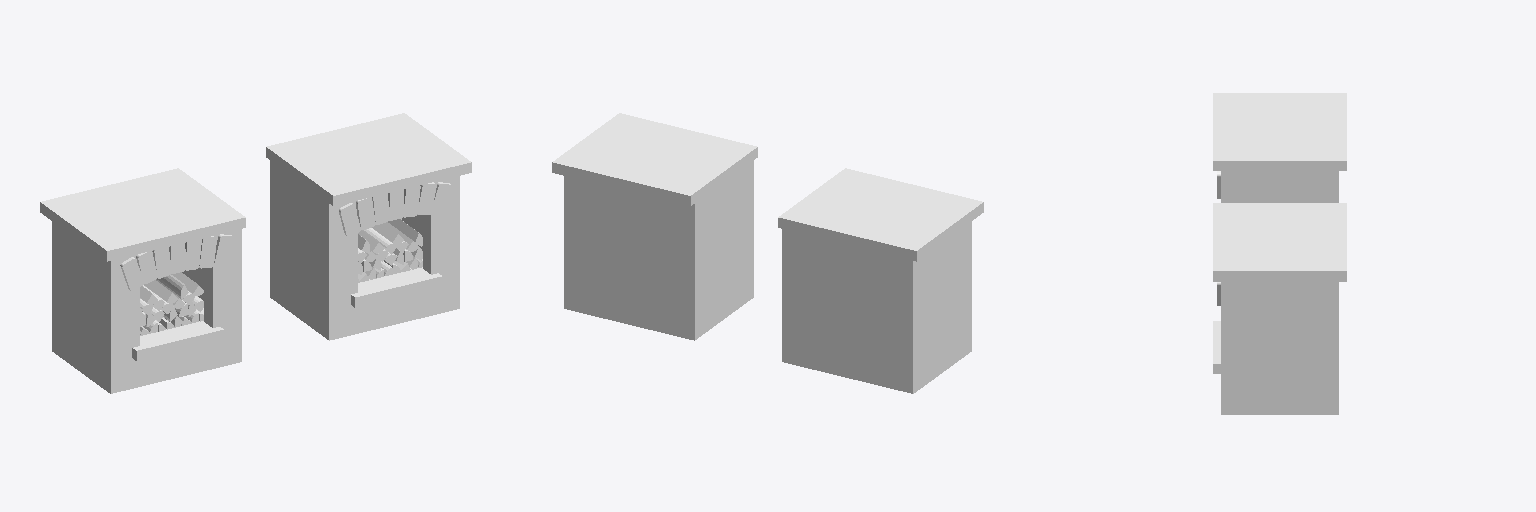
The model's file is counterR.obj.
3 views of the same model, side by side, from view 1: azimuth 30°, elevation 25°; view 2: azimuth 150°, elevation 25°; view 3: azimuth 270°, elevation 25° (orthographic).
Parts seen in each view (by area): view 1: grp89, grp181, grp183, grp90, grp93, grp1, grp91, grp184; view 2: grp89, grp181, grp90, grp183, grp184, grp91; view 3: grp89, grp90, grp183, grp181, grp91, grp184.
Part boxes in pixels (x1,y1,x2,y2): grp89: (266,147,459,340); grp181: (52,221,241,393); grp183: (40,168,245,360); grp90: (267,113,471,307); grp93: (120,234,233,290); grp1: (339,182,452,236); grp91: (279,128,436,186); grp184: (76,178,231,235); grp89: (564,147,757,340); grp181: (782,221,971,393); grp90: (552,113,756,206); grp183: (778,168,983,261); grp184: (792,178,947,235); grp91: (621,128,744,186); grp89: (1213,282,1338,414); grp90: (1213,203,1346,373); grp183: (1213,93,1346,160); grp181: (1213,161,1346,202); grp91: (1238,203,1321,259); grp184: (1238,104,1321,160).
Bounding box in the file's own units: 100 × 38.75 × 32.